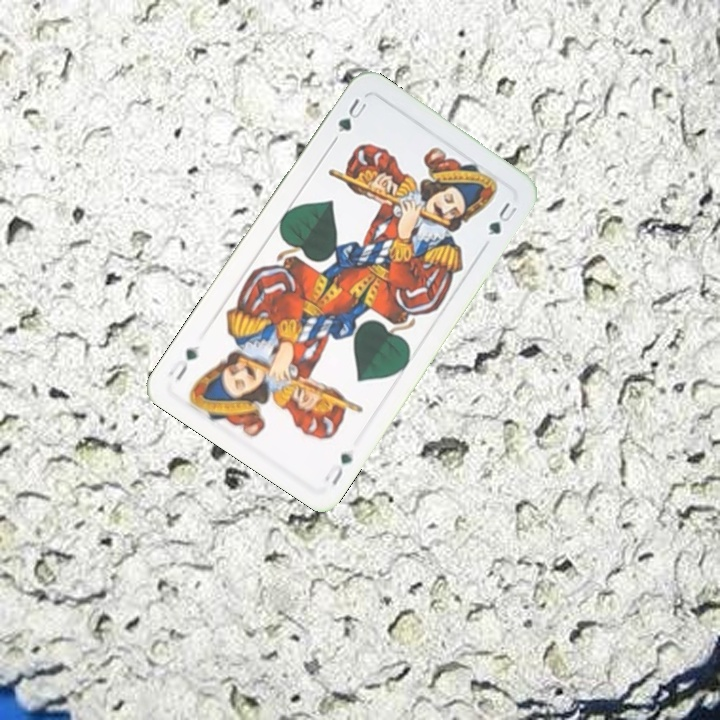GU: (320, 448, 357, 488), (334, 94, 369, 135)
